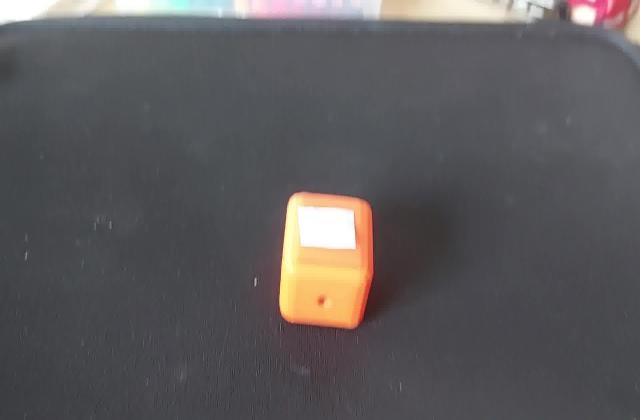sticker: (278, 184, 380, 332)
white: (294, 205, 366, 259)
